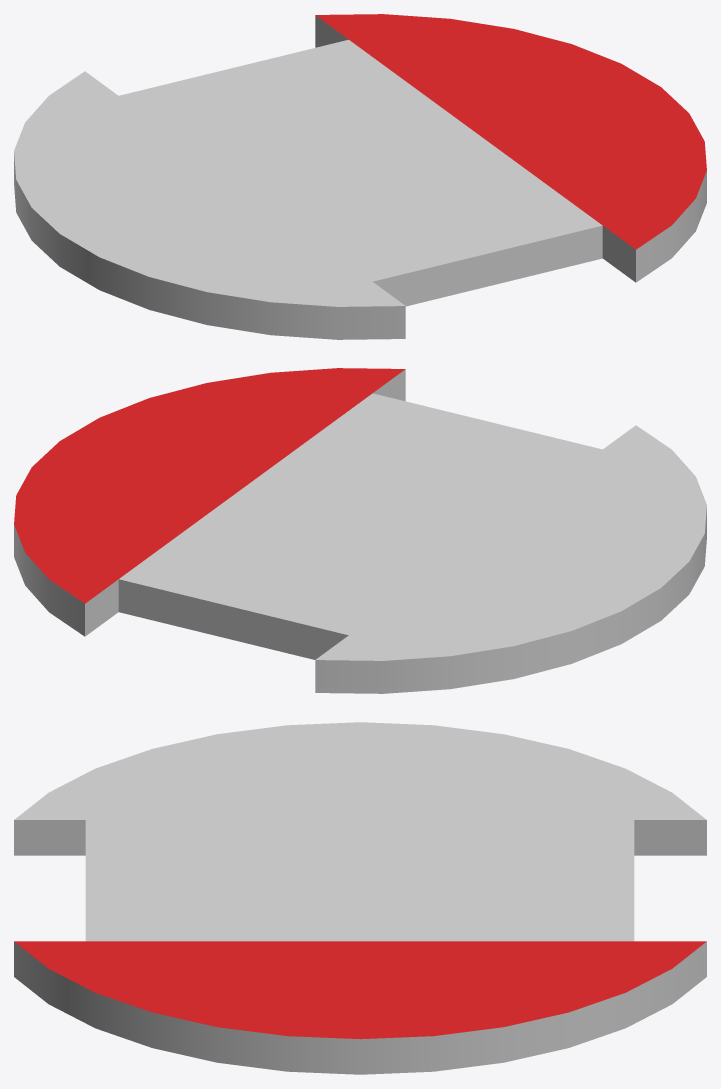
File: PioneerChassis.glb
3 renders of one model, top to bottom at view 1: azimuth 30°, elevation 25°; view 2: azimuth 150°, elevation 25°; view 3: azimuth 270°, elevation 25°, orthographic. The views are drawn at different scales.
Visible parts, largest first — view 1: Chassis; view 2: Chassis; view 3: Chassis.
Part boxes in pixels (x1,y1,x2,y2): Chassis: [14, 14, 706, 339]; Chassis: [14, 368, 706, 693]; Chassis: [14, 722, 706, 1074].
Bounding box in the file's own units: 0.3822 × 0.02 × 0.3531.
